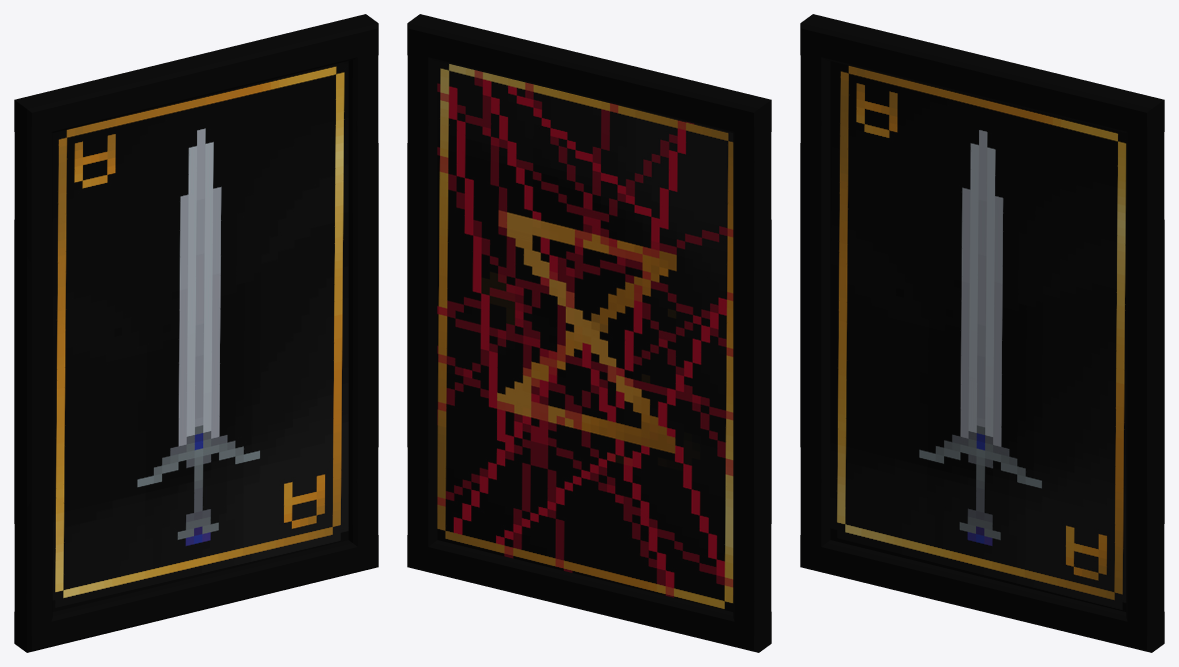
The model's file is ArcanaCard.fbx.
3 renders of one model, left to right at view 1: azimuth 30°, elevation 25°; view 2: azimuth 150°, elevation 25°; view 3: azimuth 330°, elevation 25°, orthographic.
Parts seen in each view (by area): view 1: CardArt_Arcana_back; view 2: CardArt_Arcana_back; view 3: CardArt_Arcana_back.
Boxes of the visible parts, box(x1,y1,x2,y2) form: CardArt_Arcana_back: box(14, 14, 378, 652); CardArt_Arcana_back: box(407, 14, 771, 652); CardArt_Arcana_back: box(800, 14, 1164, 652).
Size of the model in its own units: 1.24 by 1.84 by 0.1.
Materials: 1 (1 with a texture image).
